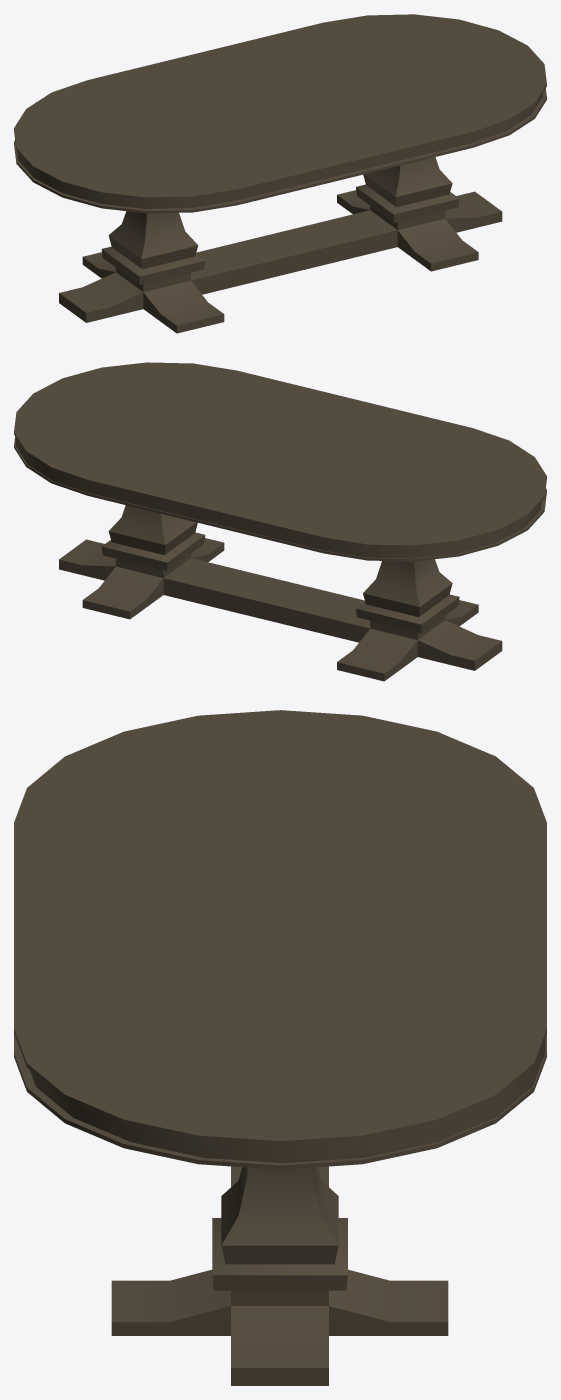
File: quaternius-house-interior-table-round-large.glb
The picture shows the model from 3 angles, top to bottom: view 1: azimuth 30°, elevation 25°; view 2: azimuth 150°, elevation 25°; view 3: azimuth 270°, elevation 25°; orthographic projection. The views are drawn at different scales.
Parts seen in each view (by area): view 1: Table_RoundLarge; view 2: Table_RoundLarge; view 3: Table_RoundLarge.
Part boxes in pixels (box(x1,y1,x2,y2)): Table_RoundLarge: box(14, 14, 546, 333); Table_RoundLarge: box(14, 362, 546, 681); Table_RoundLarge: box(14, 710, 546, 1385).
Size of the model in its own units: 3.71 by 1.12 by 1.94.
